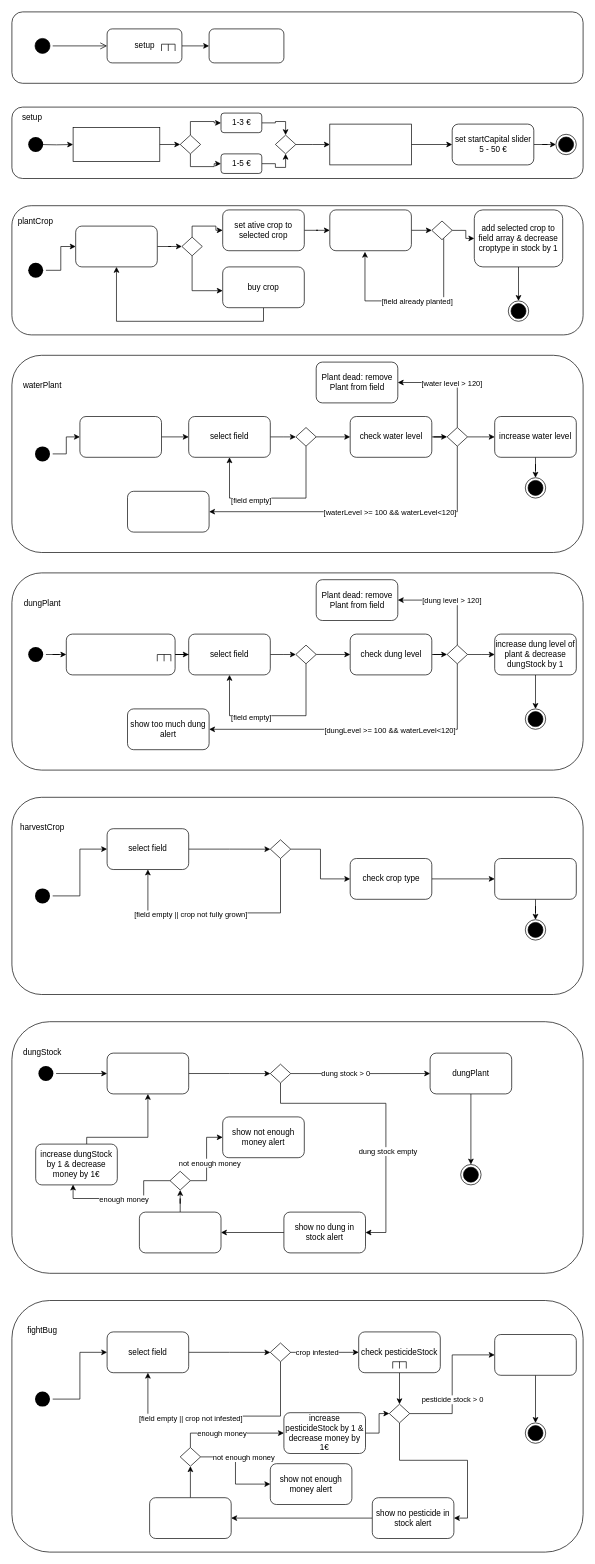
Some shapes in this 595 by 1564 pixel diagram are drawn without their labels. Each missing label, with the centre of its shape:
"buy dung" goes at pixel 180 1232.
"buy pesticide" goes at pixel 190 1517.
"check dung stock" goes at pixel 147 1073.
"choose crop" goes at pixel 116 246.
"choose field" goes at pixel 370 230.
"increase crop type at granery by 1" goes at pixel 535 878.
"minRange: number; maxRange: number;" goes at pixel 116 144.
"remove bug & decrease pesticideStock by 1" goes at pixel 535 1354.
"select dungStock" goes at pixel 120 654.
"select water button" goes at pixel 120 436.
"show too much water alert" goes at pixel 168 511.
"start Game" goes at pixel 246 45.
"startCapital: int;" goes at pixel 370 144.
